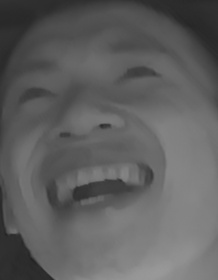eye: (115, 61, 164, 89), (16, 81, 60, 110)
mouth: (41, 146, 158, 226)
